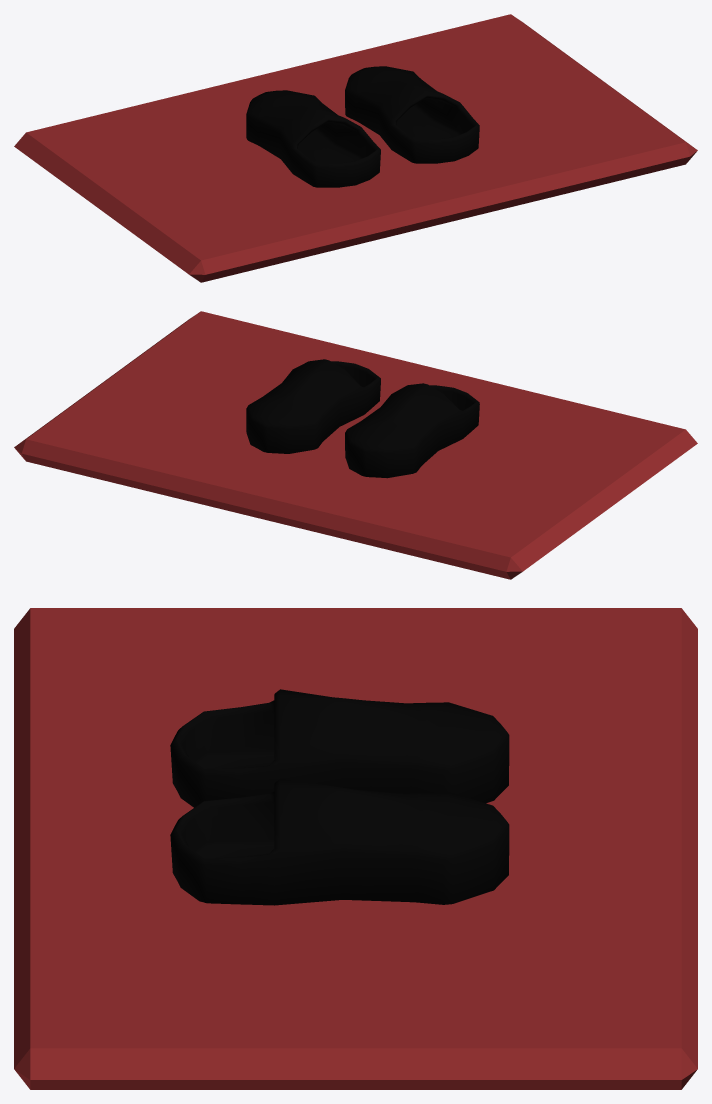
File: shoes-transformed.glb
3 views of the same model, one above another, from view 1: azimuth 30°, elevation 25°; view 2: azimuth 150°, elevation 25°; view 3: azimuth 270°, elevation 25° (orthographic). The views are drawn at different scales.
Parts seen in each view (by area): view 1: shoes; view 2: shoes; view 3: shoes.
Boxes of the visible parts, bbox=[...] form: shoes: bbox=[14, 14, 697, 282]; shoes: bbox=[14, 311, 697, 579]; shoes: bbox=[14, 608, 697, 1089].
Bounding box in the file's own units: 1.71 × 0.224 × 1.07.
